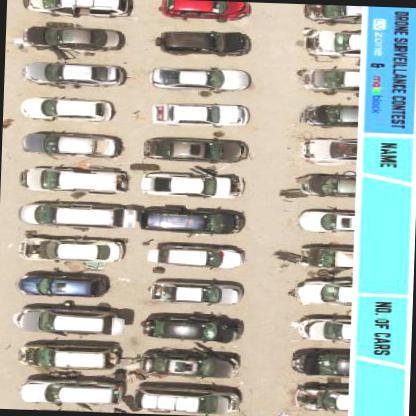car: (18, 24, 126, 55), (142, 204, 246, 236), (17, 234, 127, 264), (141, 134, 250, 164), (136, 386, 242, 416), (17, 342, 121, 372), (21, 376, 123, 406), (18, 204, 143, 228), (13, 306, 124, 333), (20, 166, 126, 194), (21, 57, 127, 85), (142, 312, 244, 341), (144, 170, 245, 199), (159, 29, 253, 60), (140, 347, 240, 376), (15, 270, 109, 298), (150, 67, 251, 93), (22, 96, 118, 122), (152, 101, 250, 126), (22, 132, 121, 156), (150, 244, 244, 269), (146, 282, 242, 305), (22, 0, 134, 19), (161, 0, 253, 23), (290, 348, 348, 377), (290, 280, 354, 305), (299, 68, 360, 92), (300, 137, 356, 162), (301, 102, 357, 127), (298, 173, 354, 198), (298, 209, 354, 232), (295, 388, 348, 412), (300, 318, 350, 343), (301, 244, 354, 267), (310, 30, 358, 54), (304, 4, 362, 22)
